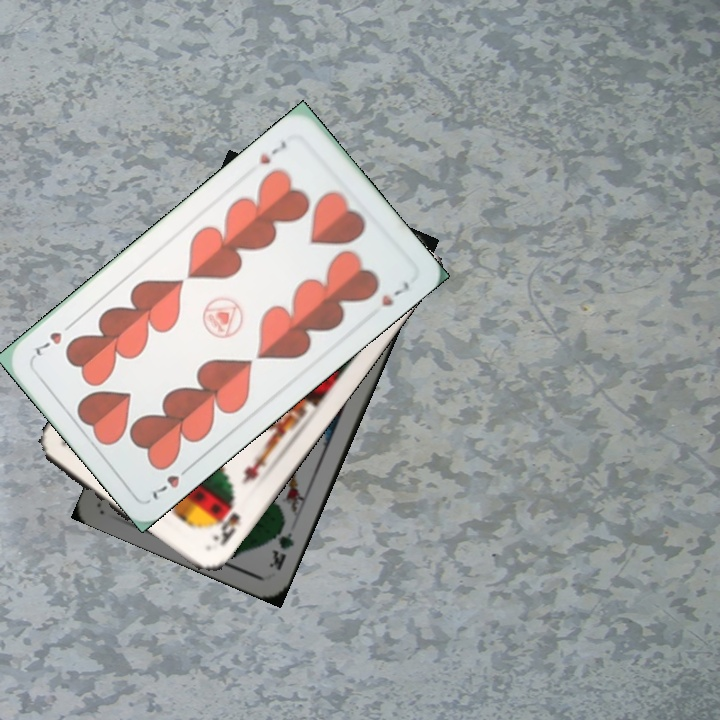GK: (265, 516, 297, 573)
H7: (148, 460, 195, 503), (255, 136, 290, 167)
SK: (208, 495, 245, 549)
